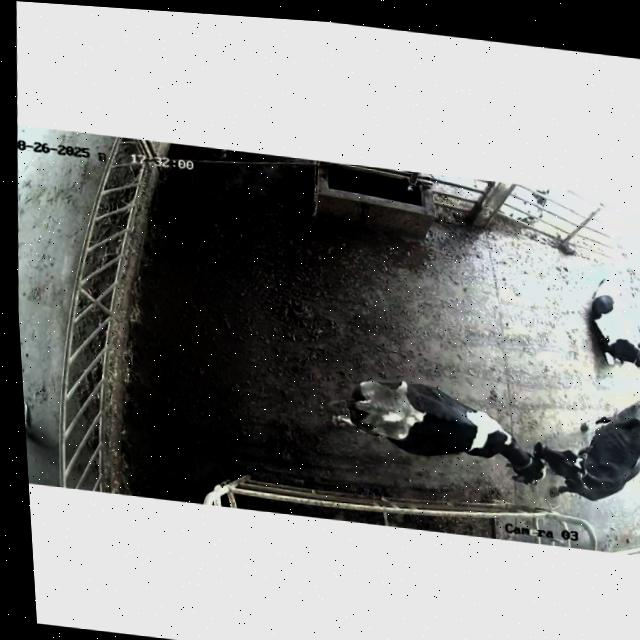stand: (333, 379, 546, 484), (534, 400, 640, 500)
